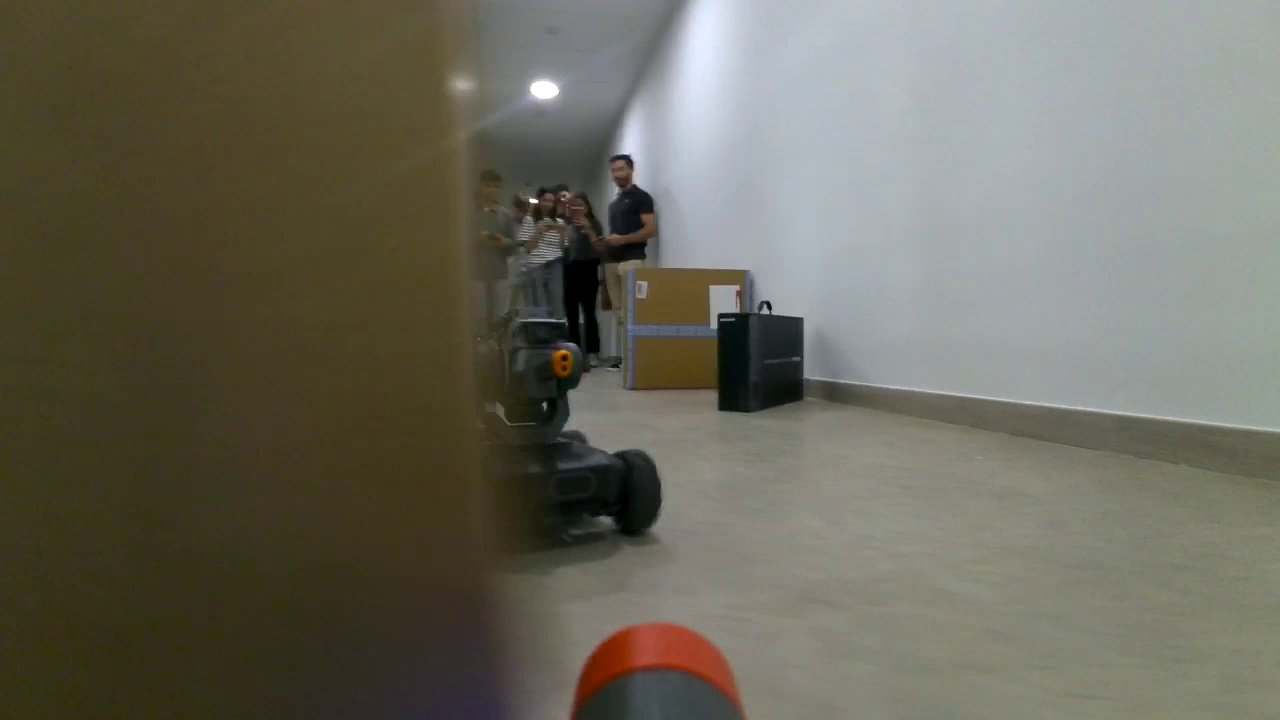robot: (465, 307, 665, 540)
